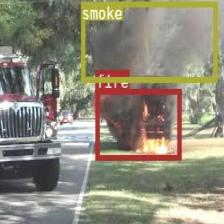fire: (95, 88, 181, 159)
smoke: (80, 2, 217, 82)
